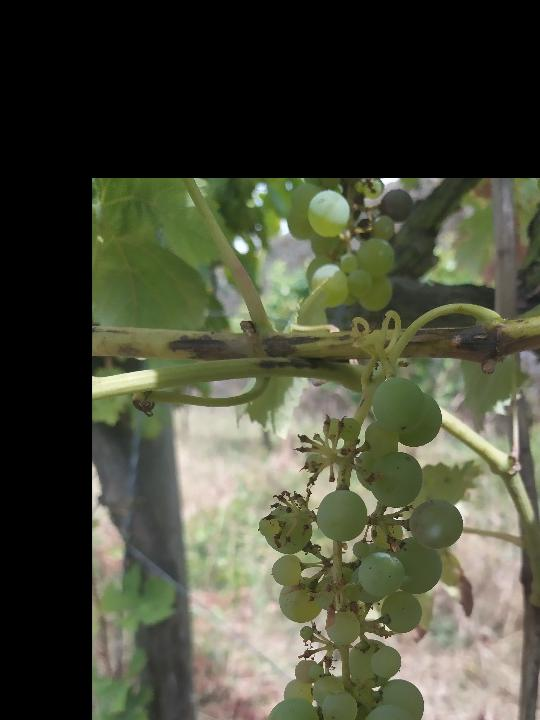grape: (256, 375, 466, 720)
